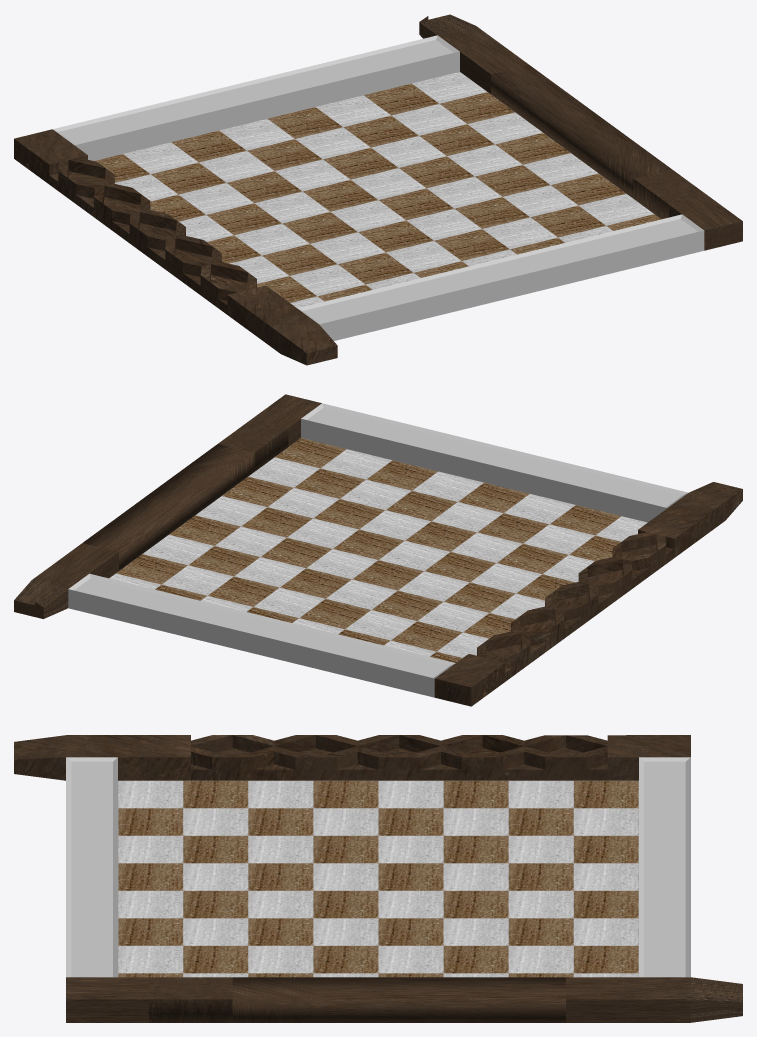
The model's file is Map.FBX.
3 renders of one model, top to bottom at view 1: azimuth 30°, elevation 25°; view 2: azimuth 150°, elevation 25°; view 3: azimuth 270°, elevation 25°, orthographic. The views are drawn at different scales.
Visible parts, largest first — view 1: Plane001, Box002, Box008, Box005, Box007; view 2: Plane001, Box002, Box005, Box007, Box008; view 3: Plane001, Box007, Box002, Box005, Box008.
Part boxes in pixels (x1,y1,x2,y2): Plane001: (94,71,660,308); Box002: (14,129,337,365); Box008: (297,214,704,340); Box005: (53,35,459,160); Box007: (419,14,742,250); Plane001: (109,438,647,662); Box002: (434,482,742,706); Box005: (68,573,455,697); Box007: (14,394,321,618); Box008: (301,403,688,522); Plane001: (118,780,638,977); Box007: (66,977,742,1022); Box002: (14,735,690,780); Box005: (639,757,690,977); Box008: (66,757,117,977).
Bounding box in the file's own units: 120 × 5 × 140.
